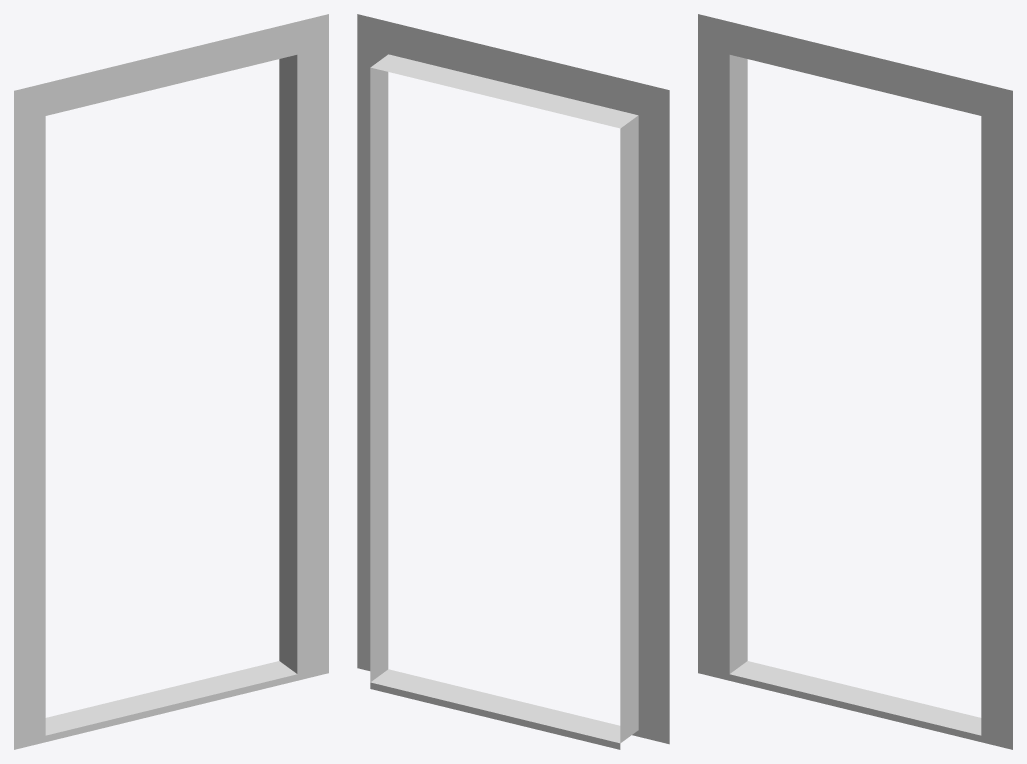
The model's file is Ext-PlainDoorframe.fbx.
The picture shows the model from 3 angles, left to right: view 1: azimuth 30°, elevation 25°; view 2: azimuth 150°, elevation 25°; view 3: azimuth 330°, elevation 25°; orthographic projection.
Parts seen in each view (by area): view 1: Ext-PlainDoorframe; view 2: Ext-PlainDoorframe; view 3: Ext-PlainDoorframe.
Boxes of the visible parts, x1,y1,x2,y2 form: Ext-PlainDoorframe: [14, 14, 328, 749]; Ext-PlainDoorframe: [357, 14, 669, 749]; Ext-PlainDoorframe: [698, 14, 1012, 749].
Bounding box in the file's own units: 100 × 200 × 10.
